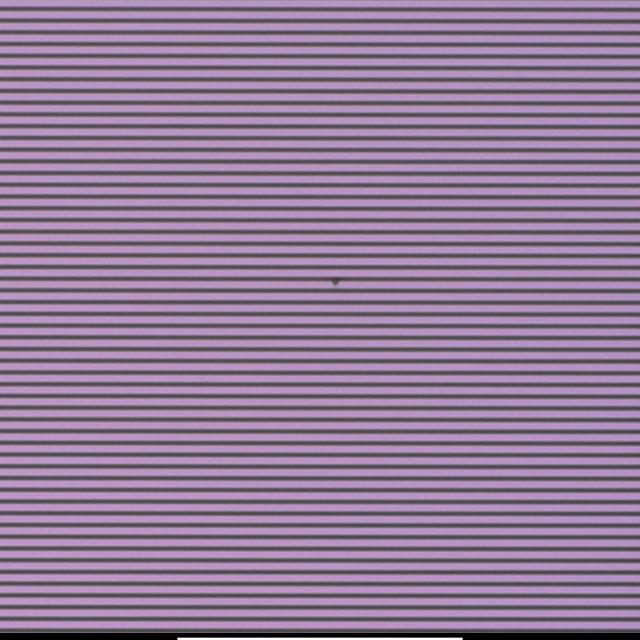03_intrusion: (323, 271, 340, 291)
